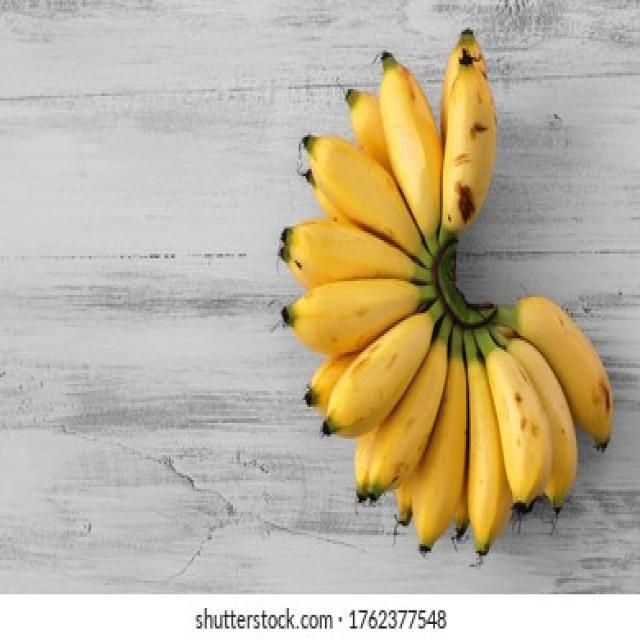Banana: (273, 23, 616, 572)
